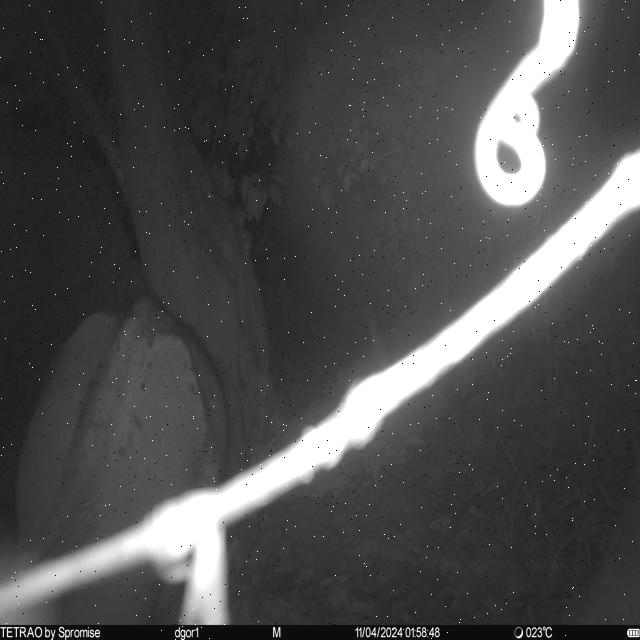calf: (15, 296, 246, 626)
